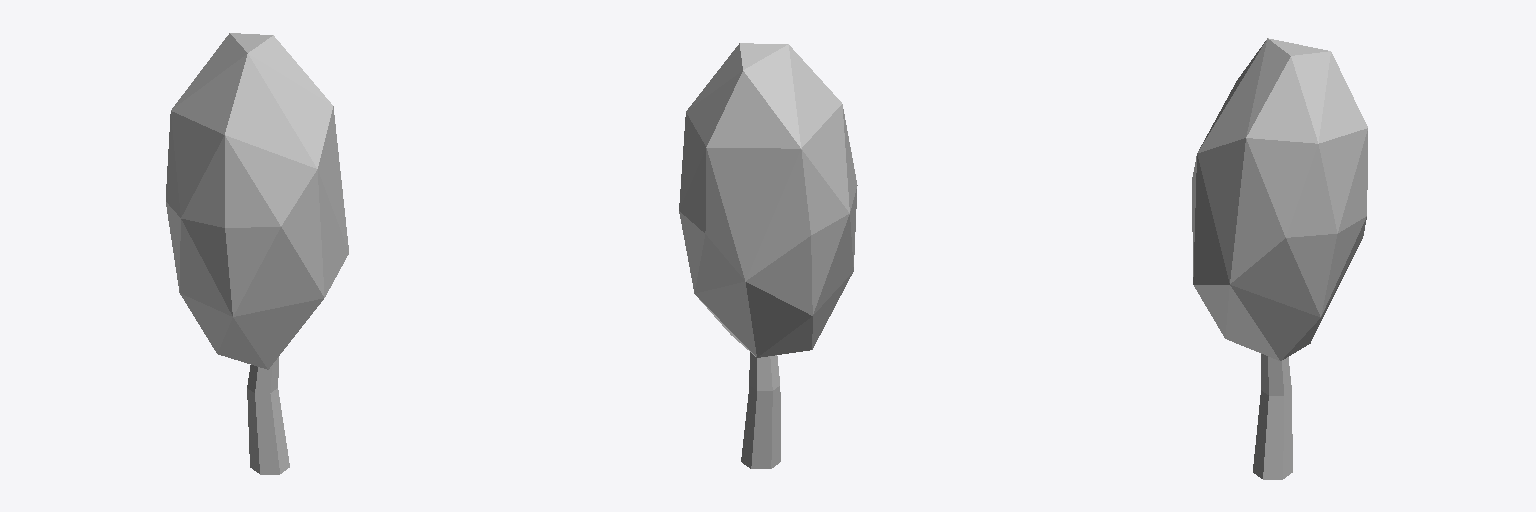
File: tree2.obj
3 views of the same model, side by side, from view 1: azimuth 30°, elevation 25°; view 2: azimuth 150°, elevation 25°; view 3: azimuth 270°, elevation 25° (orthographic).
Parts seen in each view (by area): view 1: Icosphere.005_Icosphere.020, Cylinder.006_Cylinder.013; view 2: Icosphere.005_Icosphere.020, Cylinder.006_Cylinder.013; view 3: Icosphere.005_Icosphere.020, Cylinder.006_Cylinder.013.
Boxes of the visible parts, x1=… form: Icosphere.005_Icosphere.020: x1=166, y1=33, x2=348, y2=369; Cylinder.006_Cylinder.013: x1=247, y1=357, x2=289, y2=474; Icosphere.005_Icosphere.020: x1=679, y1=43, x2=857, y2=357; Cylinder.006_Cylinder.013: x1=741, y1=352, x2=780, y2=468; Icosphere.005_Icosphere.020: x1=1192, y1=38, x2=1367, y2=360; Cylinder.006_Cylinder.013: x1=1253, y1=354, x2=1292, y2=479.
Bounding box in the file's own units: 4.35 × 11.18 × 4.23.